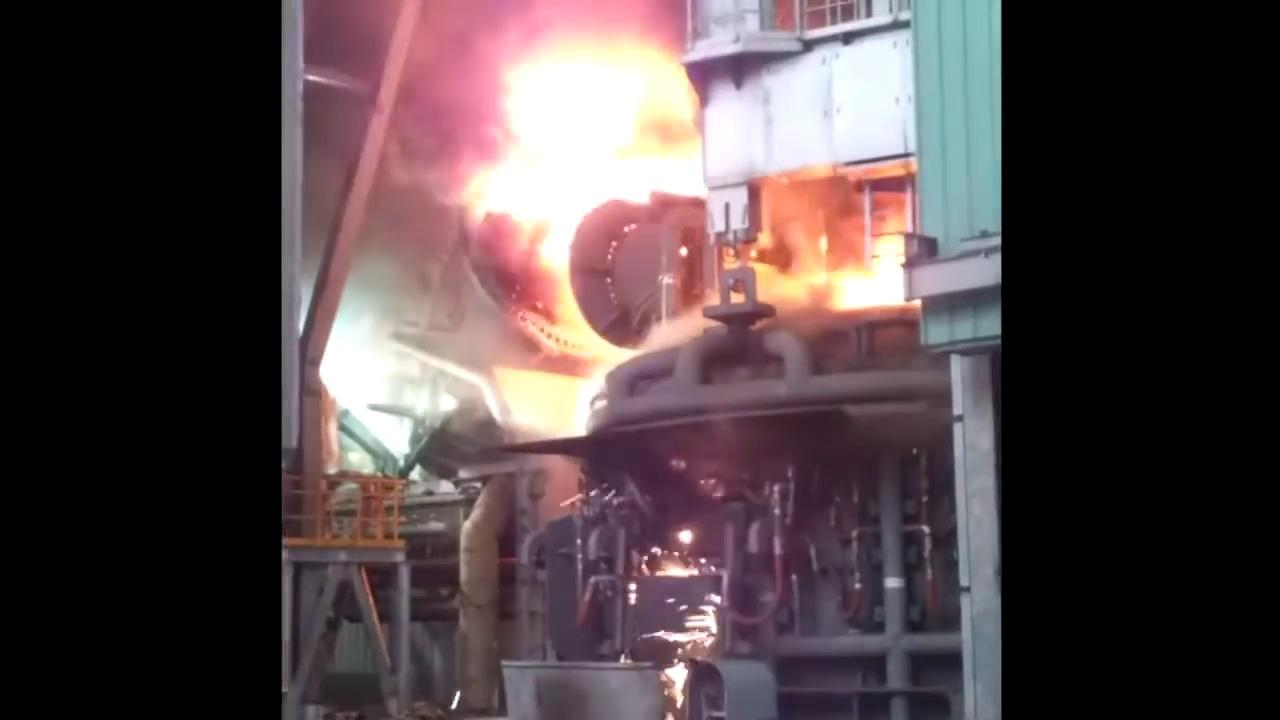fire: (315, 10, 959, 720)
